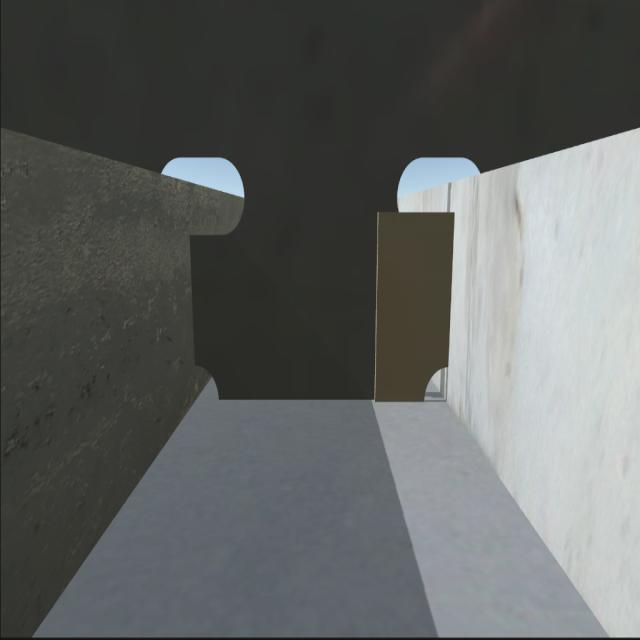fillet_hole: (424, 367, 447, 402), (197, 374, 216, 400)
fillet_yong_jeop_jang: (224, 400, 423, 408)
longi_yong_jeop_jang: (445, 216, 458, 374), (188, 234, 200, 358)
plate_CP01: (376, 214, 452, 400)
